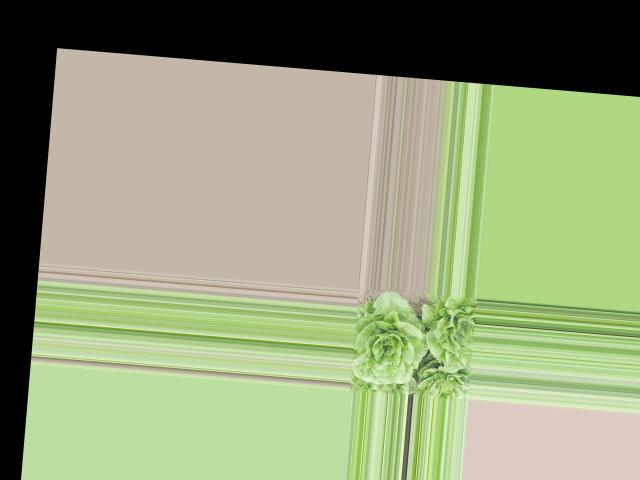lettuce: (423, 296, 478, 374)
